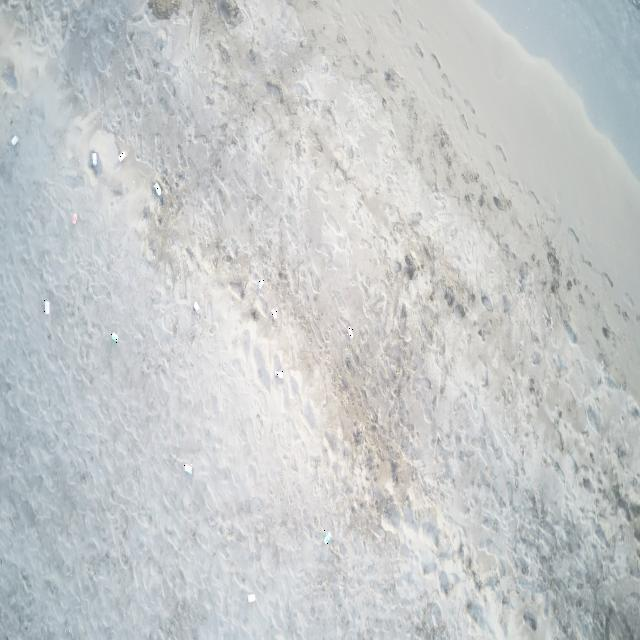tin-and-aluminum-cans: (152, 182, 160, 197), (184, 463, 193, 475), (324, 530, 331, 544), (11, 136, 19, 148), (118, 151, 126, 163), (71, 212, 78, 225), (247, 593, 256, 603), (274, 369, 284, 378), (44, 300, 50, 315), (194, 300, 200, 314), (347, 325, 353, 339), (90, 153, 96, 166), (110, 333, 117, 344), (258, 278, 264, 290), (271, 309, 277, 320)
